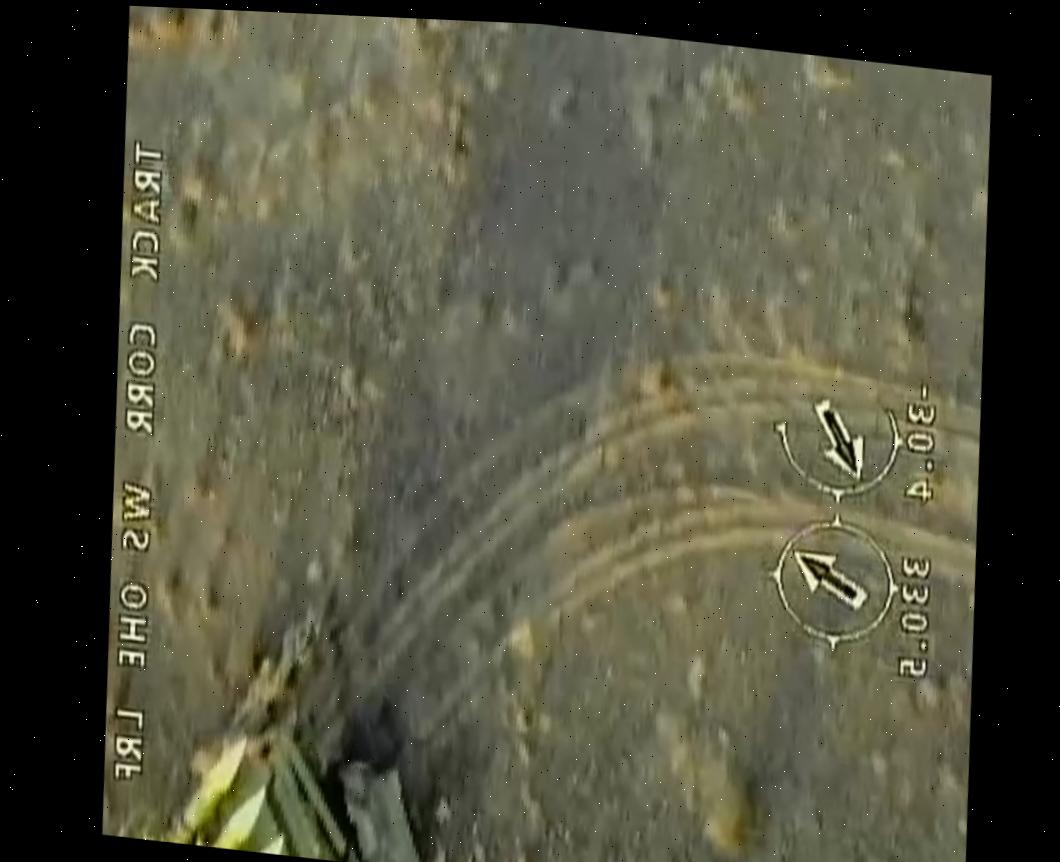armored_car: (96, 700, 463, 862)
